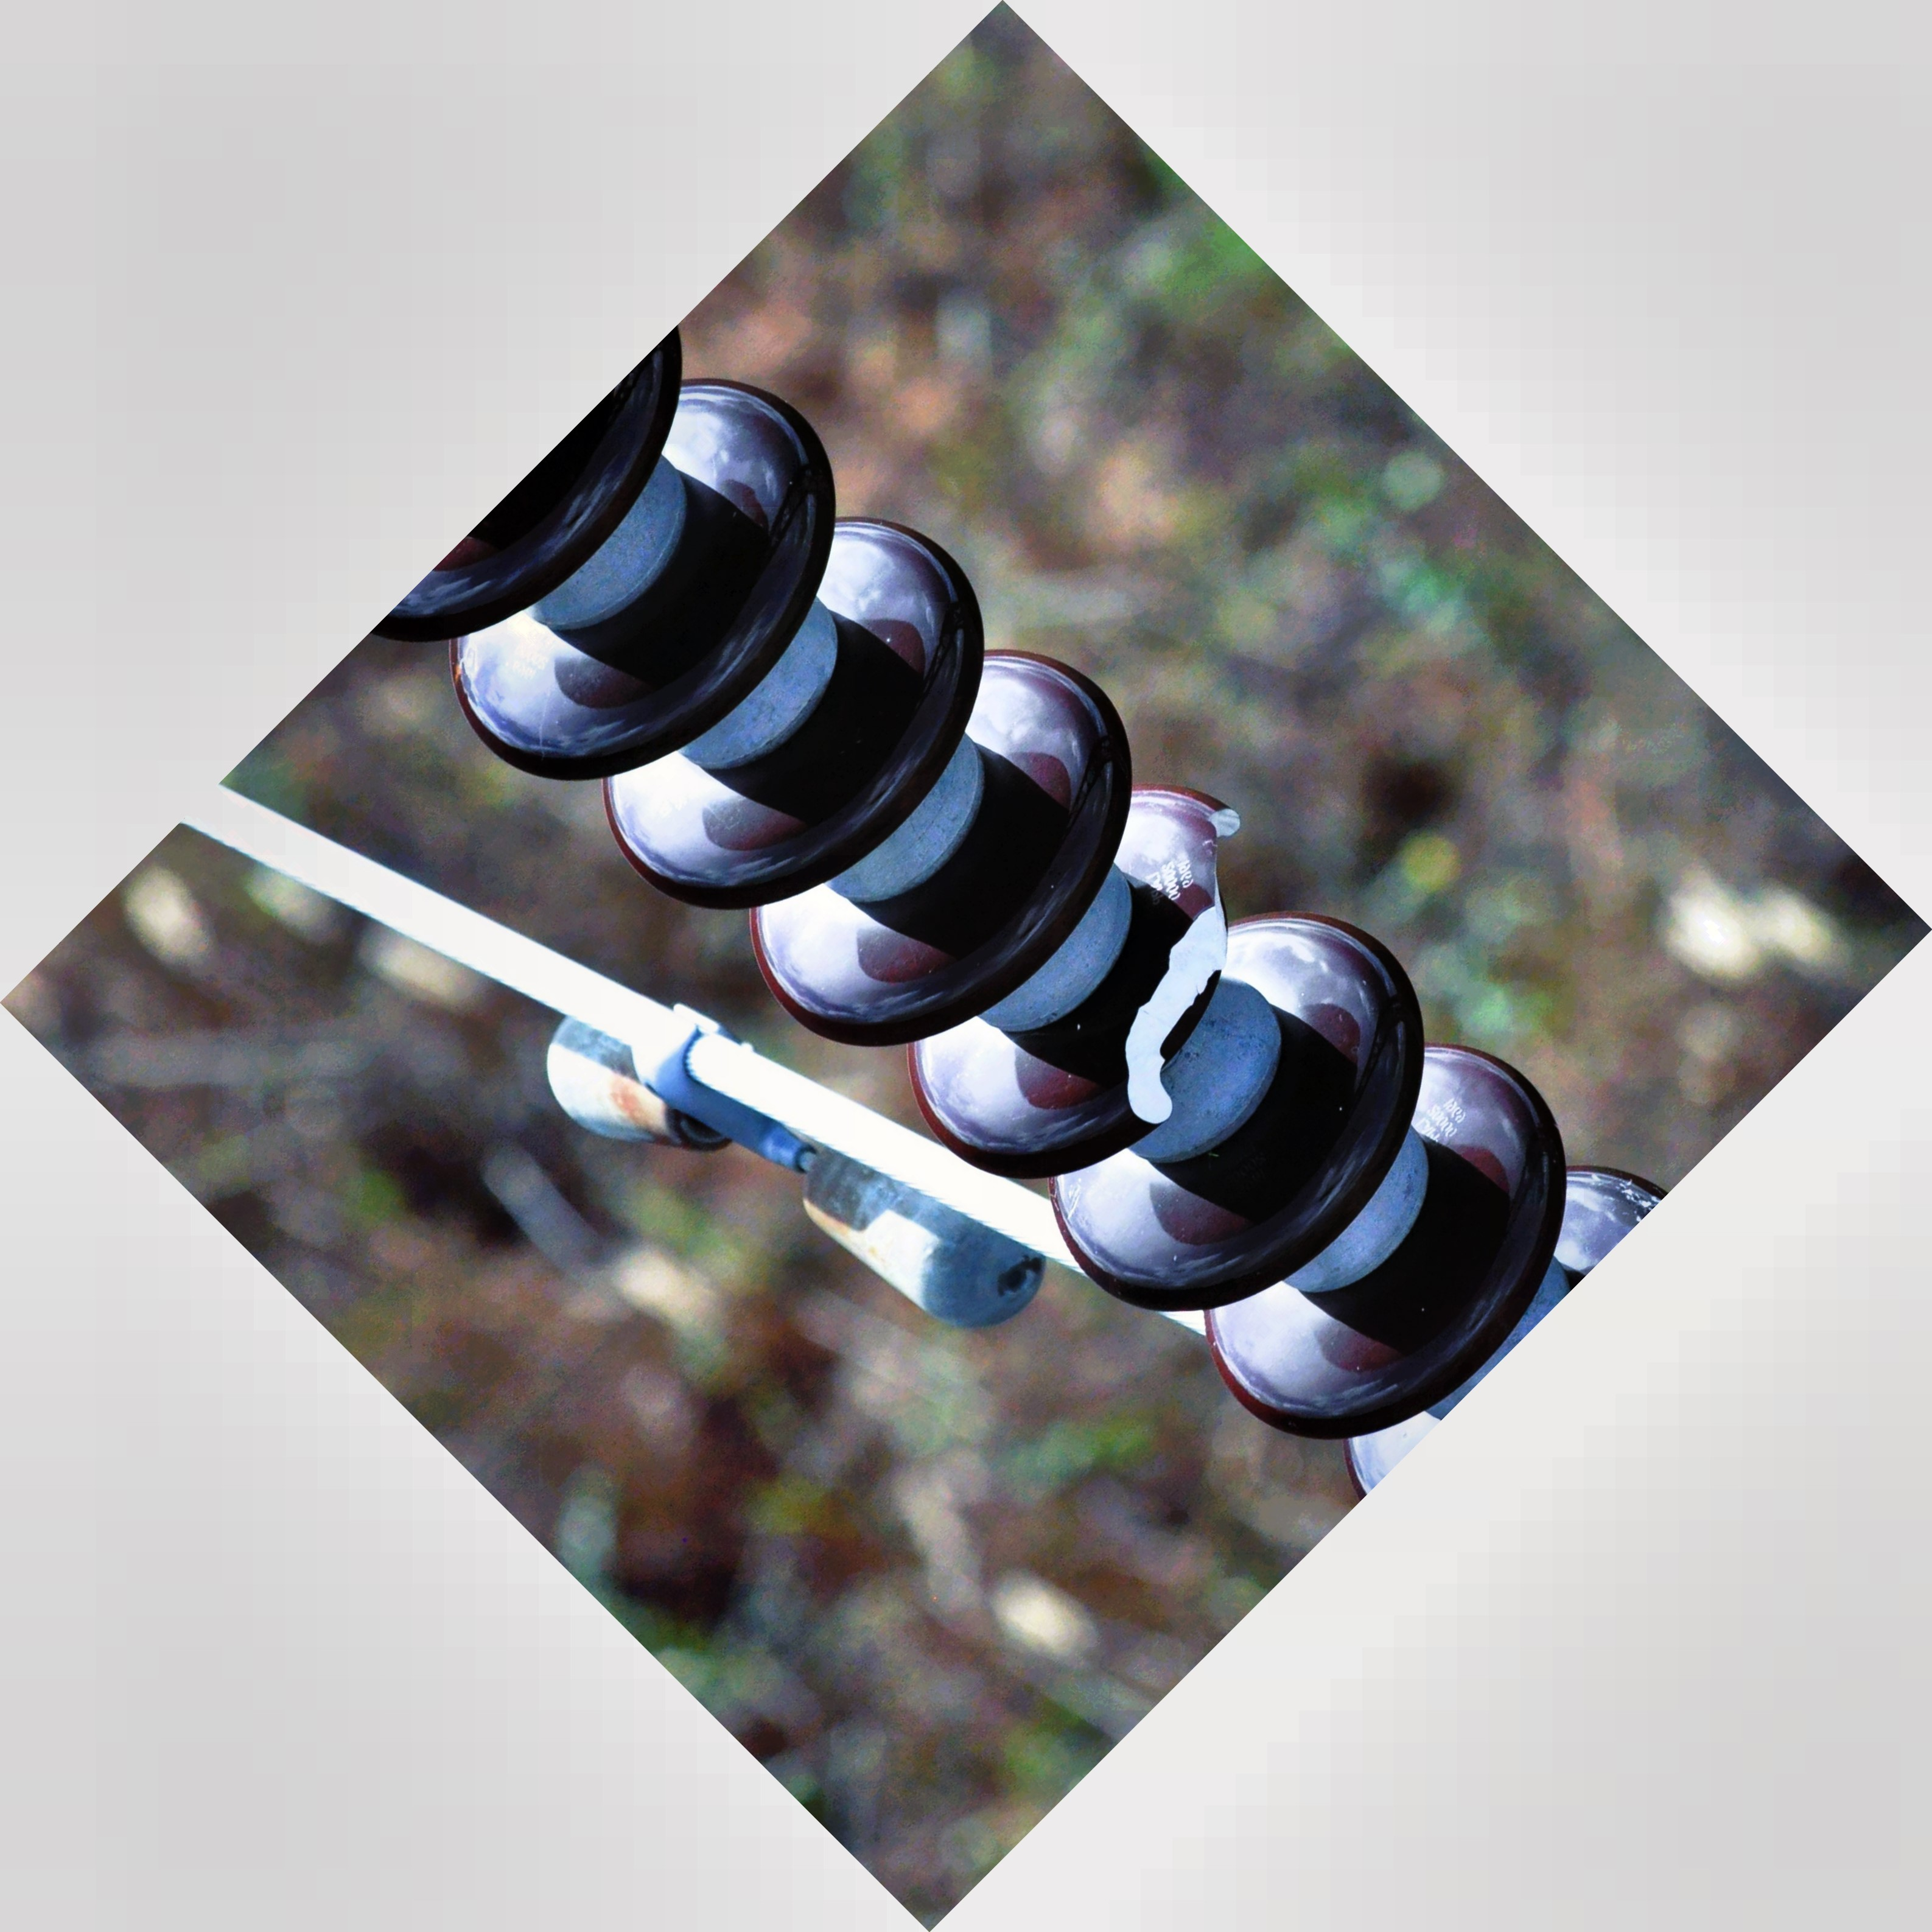insulator breakage: (893, 778, 1256, 1187)
